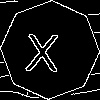X: (25, 25, 60, 72)
